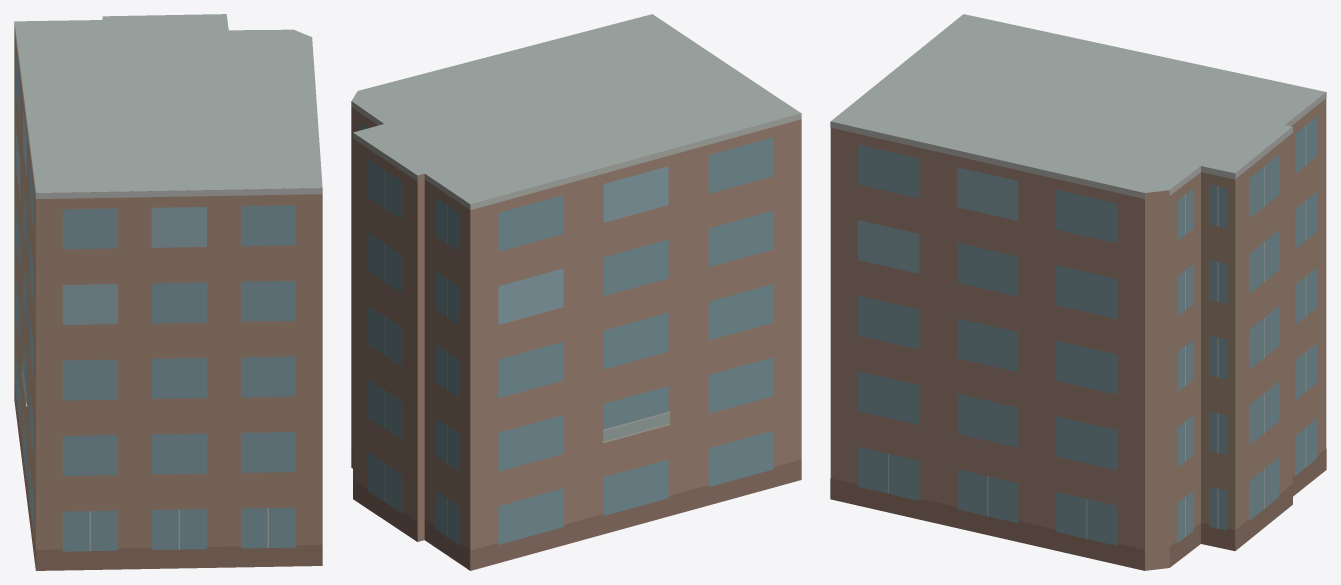
Rendered from survey-upis-32670619.glb.
3 renders of one model, left to right at view 1: azimuth 30°, elevation 25°; view 2: azimuth 150°, elevation 25°; view 3: azimuth 270°, elevation 25°, orthographic. The views are drawn at different scales.
Parts seen in each view (by area): view 1: survey-upis-32670619.tmp; view 2: survey-upis-32670619.tmp; view 3: survey-upis-32670619.tmp.
Boxes of the visible parts, box(x1,y1,x2,y2) form: survey-upis-32670619.tmp: box(14, 14, 322, 570); survey-upis-32670619.tmp: box(351, 14, 801, 570); survey-upis-32670619.tmp: box(830, 14, 1326, 570).
Bounding box in the file's own units: 15.43 × 15.17 × 18.06.
